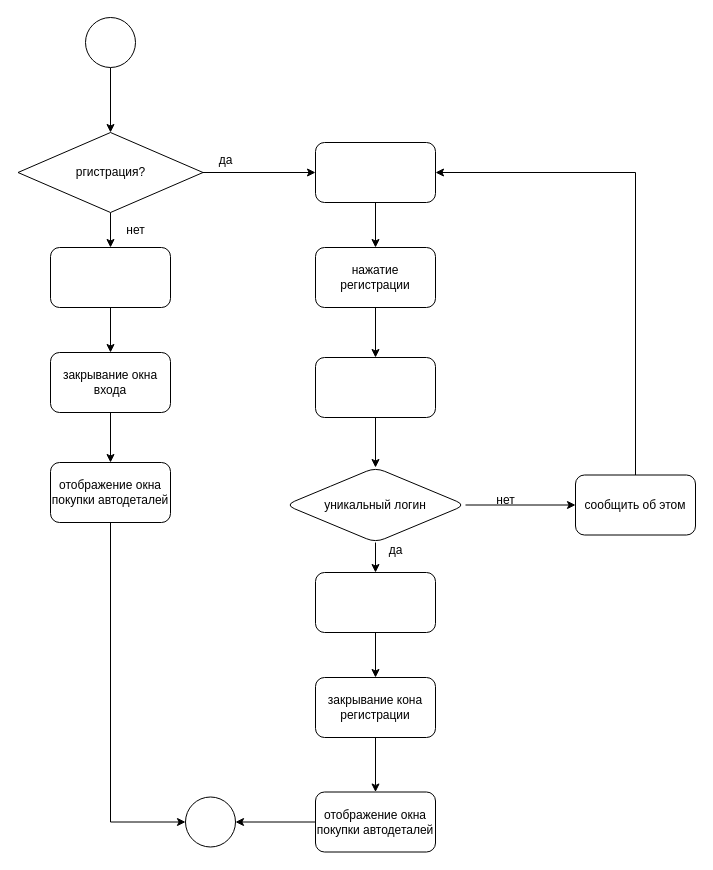
The diagram is 713 pixels wide and 870 high, and some of its shapes have lost their labels. Each missing label, with the box of its shape:
нажатие войти: (50, 246, 170, 308)
окно регистрации: (314, 142, 436, 202)
проверка уникальности: (314, 356, 436, 418)
сохранить пользователя: (314, 572, 436, 632)
